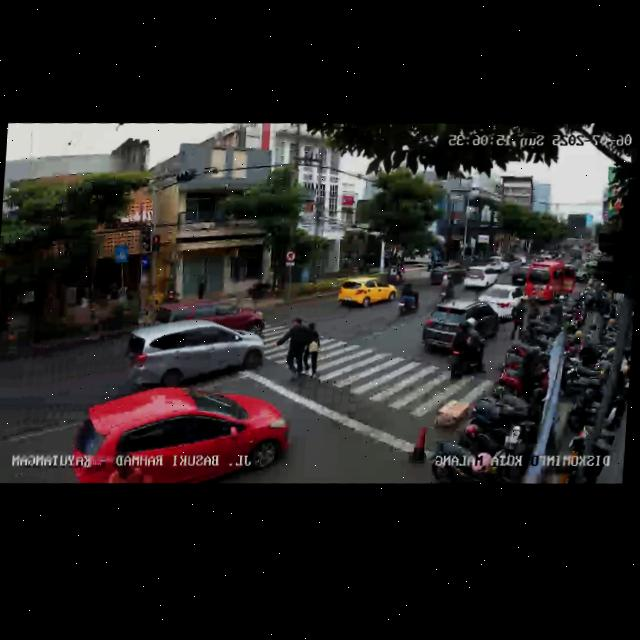car: (71, 376, 293, 495), (128, 313, 266, 398), (419, 294, 502, 359), (151, 295, 264, 340), (338, 273, 400, 314), (526, 259, 577, 306), (475, 280, 527, 325), (430, 261, 465, 294), (460, 263, 499, 292), (510, 265, 529, 285)
motorcycle: (447, 316, 489, 381), (394, 278, 420, 319), (438, 268, 457, 303)
person: (270, 315, 309, 385), (302, 316, 322, 385), (506, 296, 530, 345)
